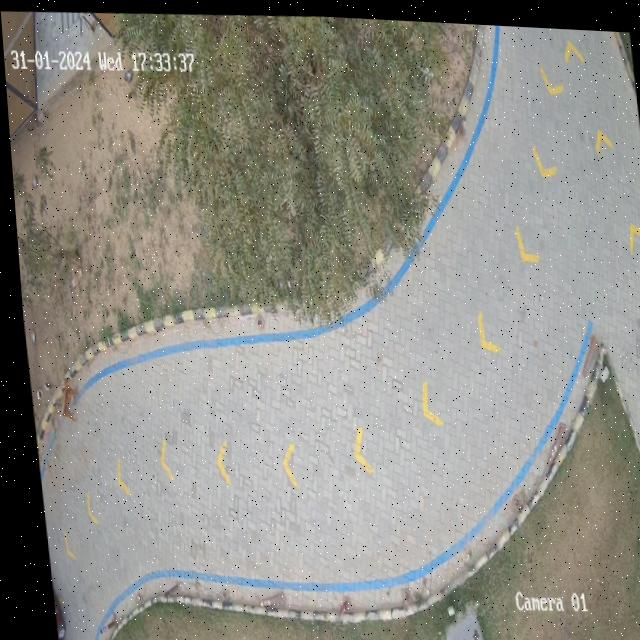car: (44, 587, 55, 640)
